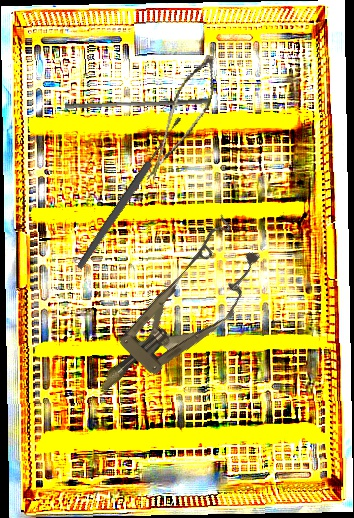Micro Scissor: (145, 47, 223, 193)
Pusher: (64, 92, 212, 115)
Speculum: (74, 214, 278, 418)
Surgical Spoon: (74, 115, 185, 271)
